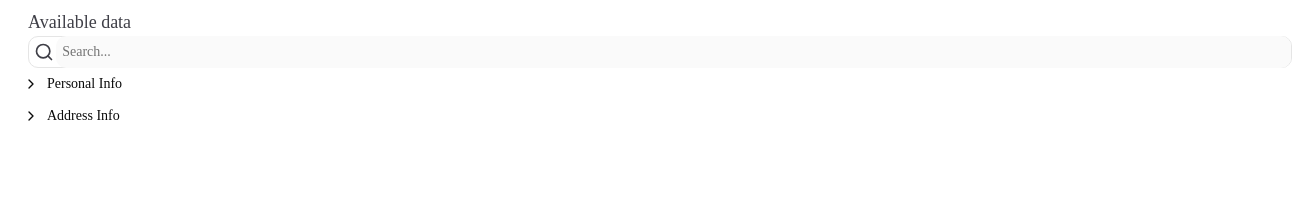
it: components/sidebar/inherited-component.tsx › should toggle dropdown visibility on click
Click the button "Personal Info" at [72, 84], box [12,68,133,100]
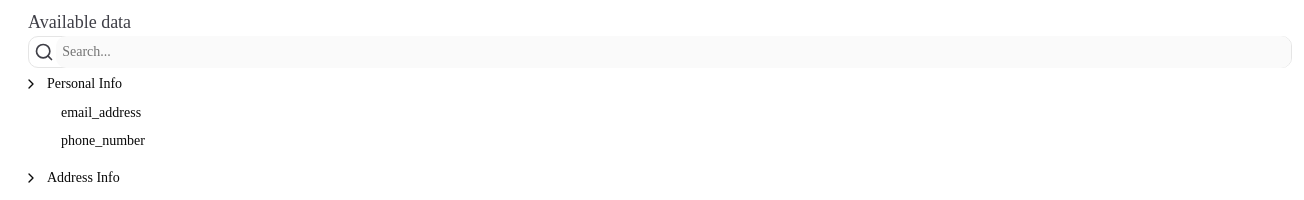
Check: the button "email_address" is shown, box [52,100,150,126]
